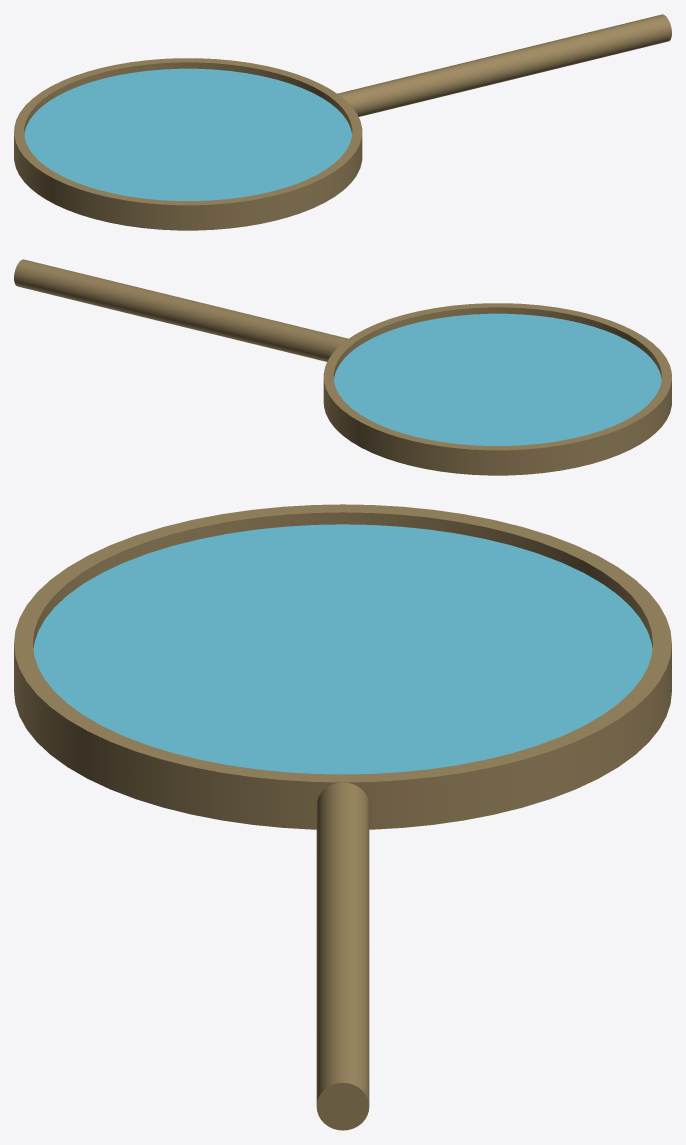
File: mag glass v1.fbx
The picture shows the model from 3 angles, top to bottom: view 1: azimuth 30°, elevation 25°; view 2: azimuth 150°, elevation 25°; view 3: azimuth 270°, elevation 25°; orthographic projection. The views are drawn at different scales.
Visible parts, largest first — view 1: Body1, Body2, Body3; view 2: Body1, Body2, Body3; view 3: Body1, Body2, Body3.
Part boxes in pixels (<box>): Body1: <box>24,68,351,200</box>; Body2: <box>14,58,362,230</box>; Body3: <box>337,14,671,116</box>; Body1: <box>334,313,661,445</box>; Body2: <box>323,303,671,475</box>; Body3: <box>14,259,348,361</box>; Body1: <box>33,524,652,774</box>; Body2: <box>14,504,671,829</box>; Body3: <box>316,782,369,1130</box>.
Bounding box in the file's own units: 1.04 × 0.04 × 0.5.
